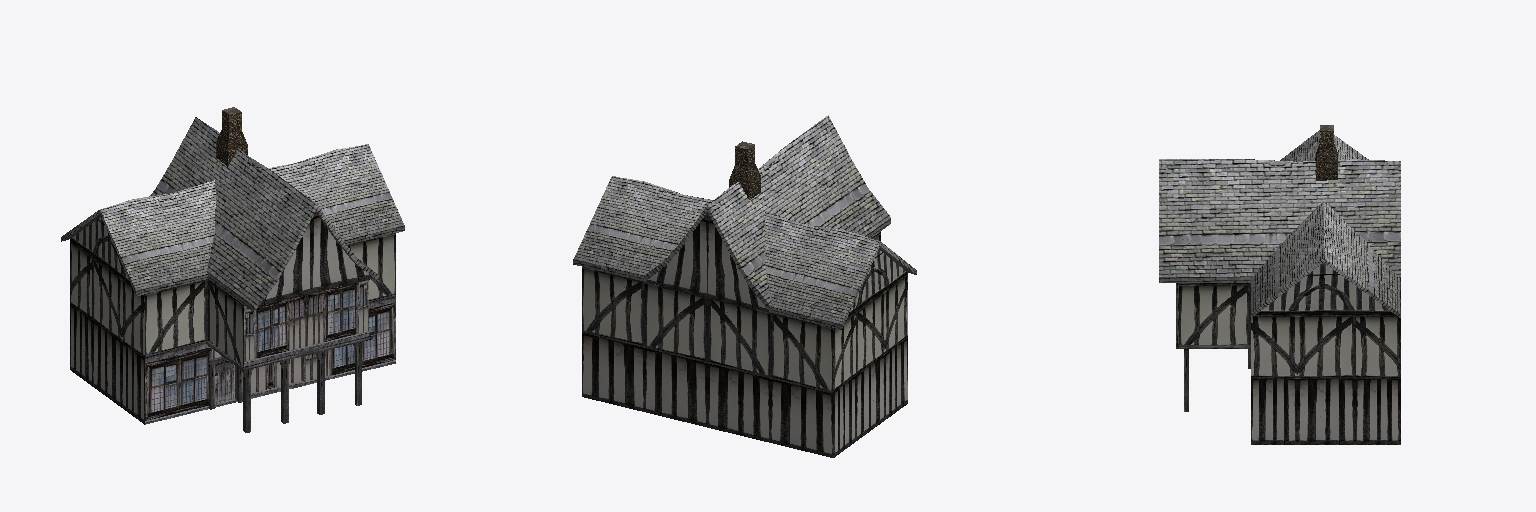
The picture shows the model from 3 angles: view 1: azimuth 30°, elevation 25°; view 2: azimuth 150°, elevation 25°; view 3: azimuth 270°, elevation 25°; orthographic projection.
Visible parts, largest first — view 1: med_house9; view 2: med_house9; view 3: med_house9.
Part boxes in pixels (x1,y1,x2,y2): med_house9: (61,107,404,432); med_house9: (573,115,916,457); med_house9: (1159,125,1400,444).
Bounding box in the file's own units: 485 × 442 × 378.
1 materials, 1 textured.